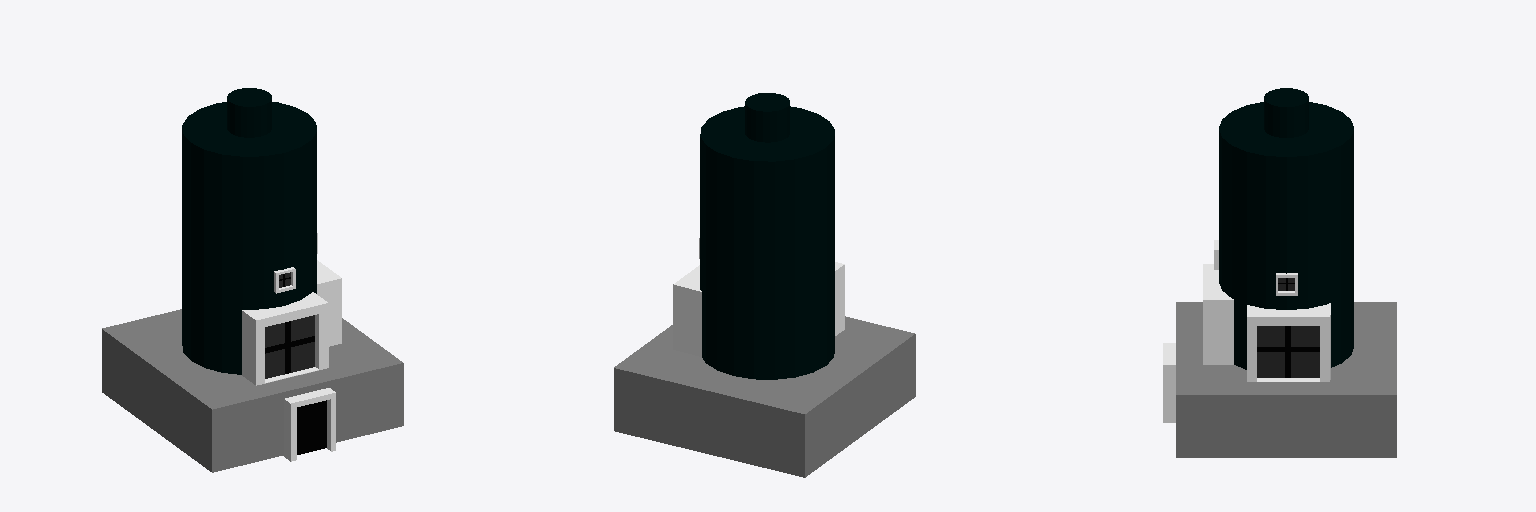
File: building_cylA.obj
3 renders of one model, left to right at view 1: azimuth 30°, elevation 25°; view 2: azimuth 150°, elevation 25°; view 3: azimuth 270°, elevation 25°, orthographic.
Visible parts, largest first — view 1: pCube28; view 2: pCube28; view 3: pCube28.
Boxes of the visible parts, x1,y1,x2,y2 form: pCube28: [102, 88, 403, 472]; pCube28: [614, 93, 915, 477]; pCube28: [1163, 88, 1396, 457].
Bounding box in the file's own units: 302 × 473 × 321.